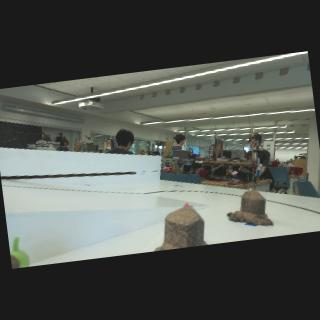teletubby: (10, 237, 30, 268), (184, 203, 189, 207), (250, 188, 252, 191)
